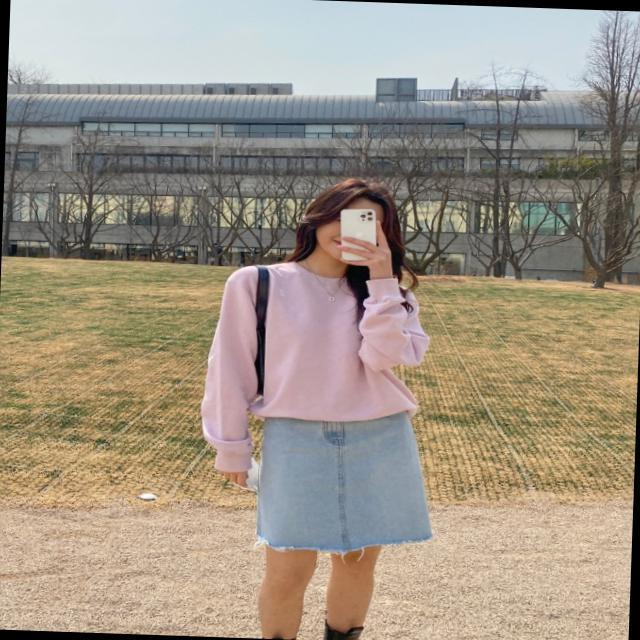skirt: (252, 409, 434, 556)
sweater: (200, 260, 430, 478)
